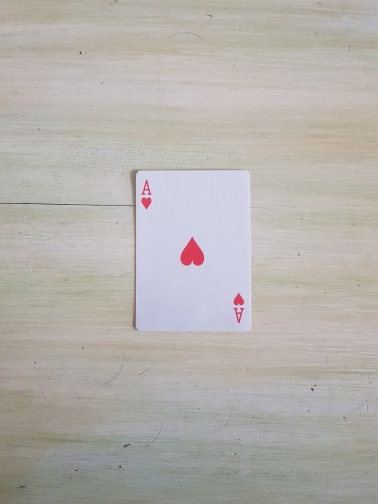ace: (133, 170, 253, 333)
